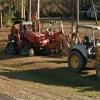Tractor: (8, 9, 81, 58)
